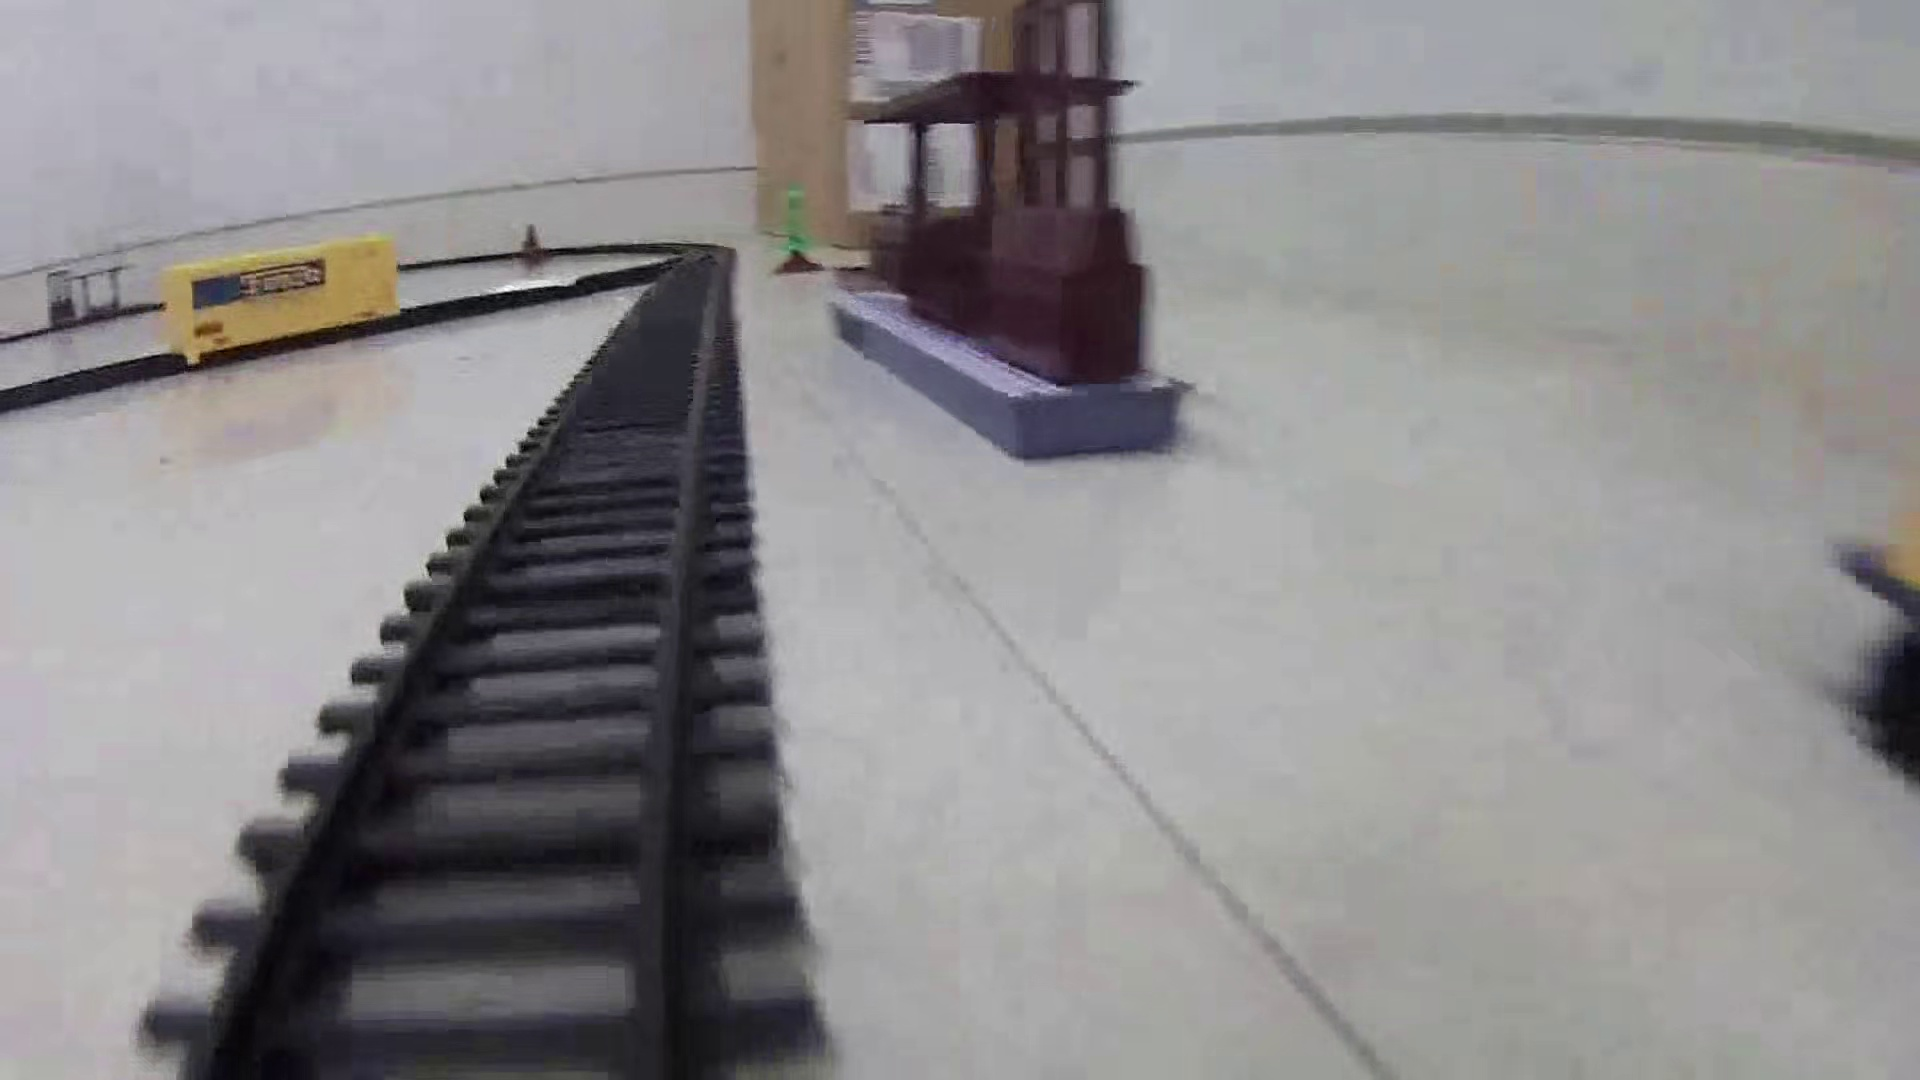tree: (774, 184, 826, 280)
